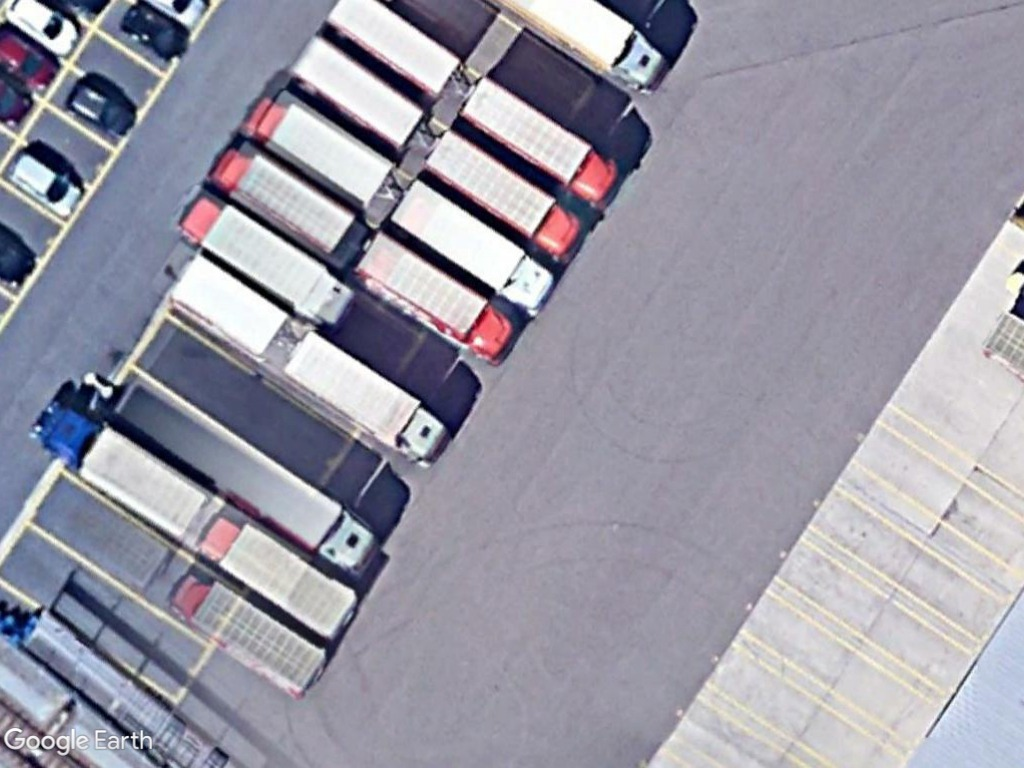car: (1, 147, 84, 217)
truck: (24, 395, 220, 542), (276, 325, 452, 464), (389, 177, 559, 318), (352, 228, 515, 366), (197, 507, 358, 645), (172, 185, 340, 317), (423, 125, 584, 262), (462, 74, 622, 211), (166, 570, 332, 701), (244, 91, 397, 211), (206, 141, 357, 254)
